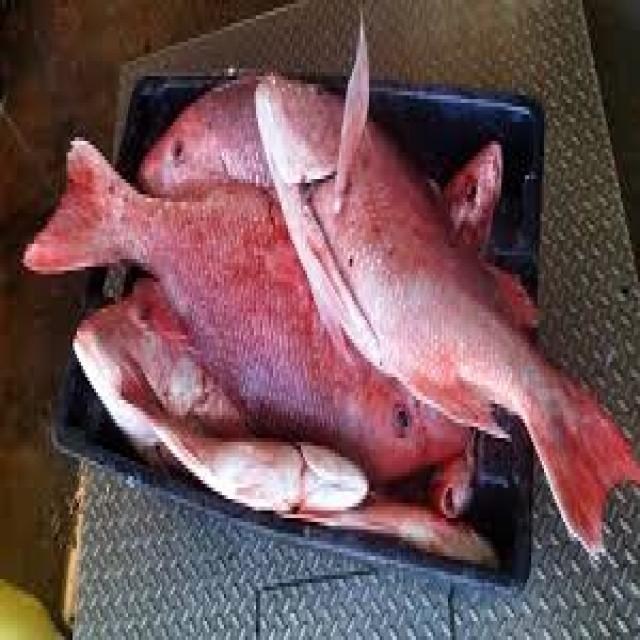northern-red-snapper: (251, 63, 640, 565), (30, 115, 472, 488), (62, 254, 466, 528), (130, 58, 302, 192)
